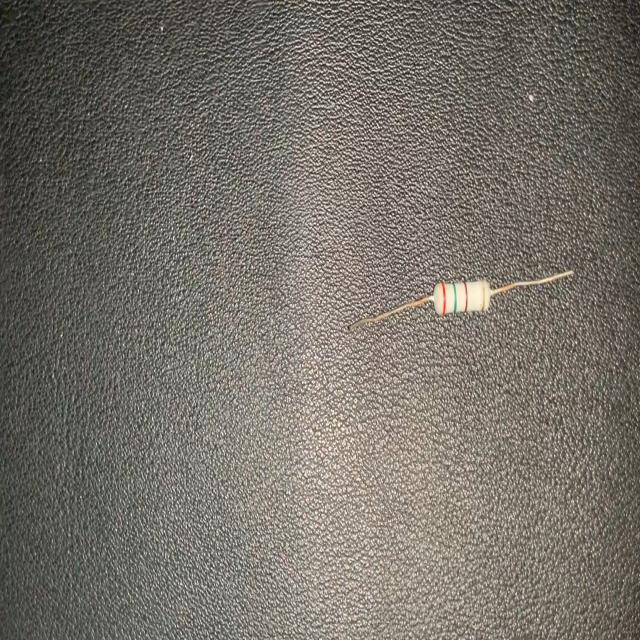resistor: (341, 258, 583, 342)
